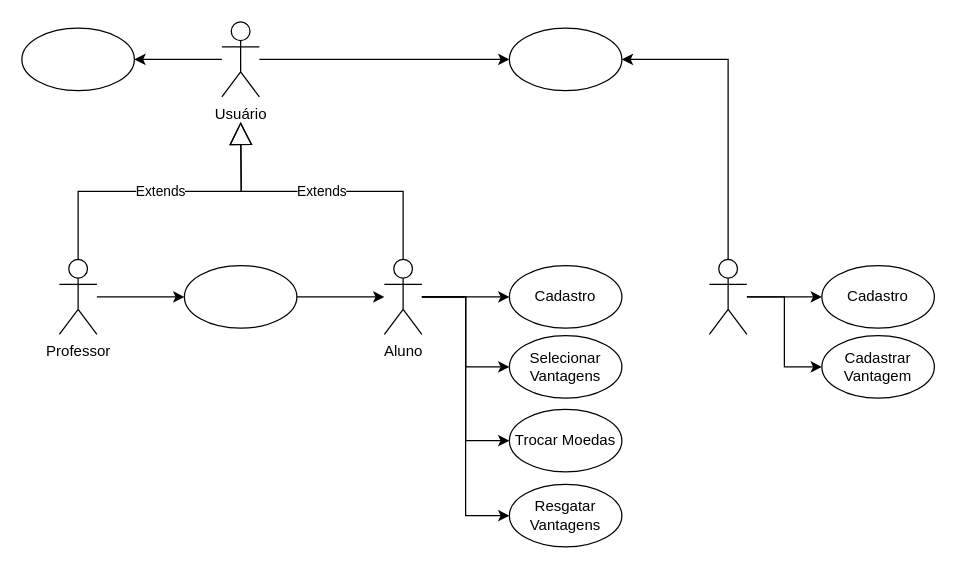
Image size: 956x569. Some labels were removed from this diagram. Each missing label, with the centre of its shape:
"Autenticação" belongs at [565,59].
"Consultar Extrato" belongs at [77,59].
"Empresa" belongs at [727,296].
"Enviar Moedas" belongs at [240,296].
